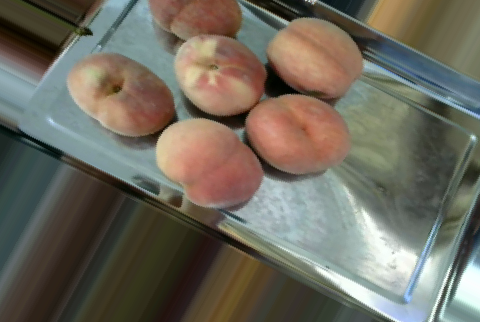Peach: (154, 117, 263, 207), (67, 52, 177, 136), (247, 94, 351, 174), (266, 16, 363, 99), (173, 35, 266, 116), (147, 0, 241, 39)
